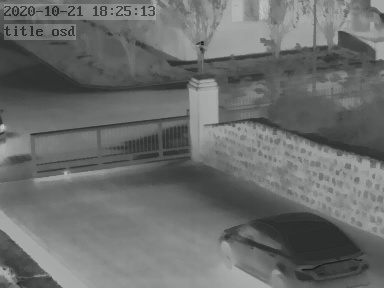vehicle: (217, 214, 376, 288)
